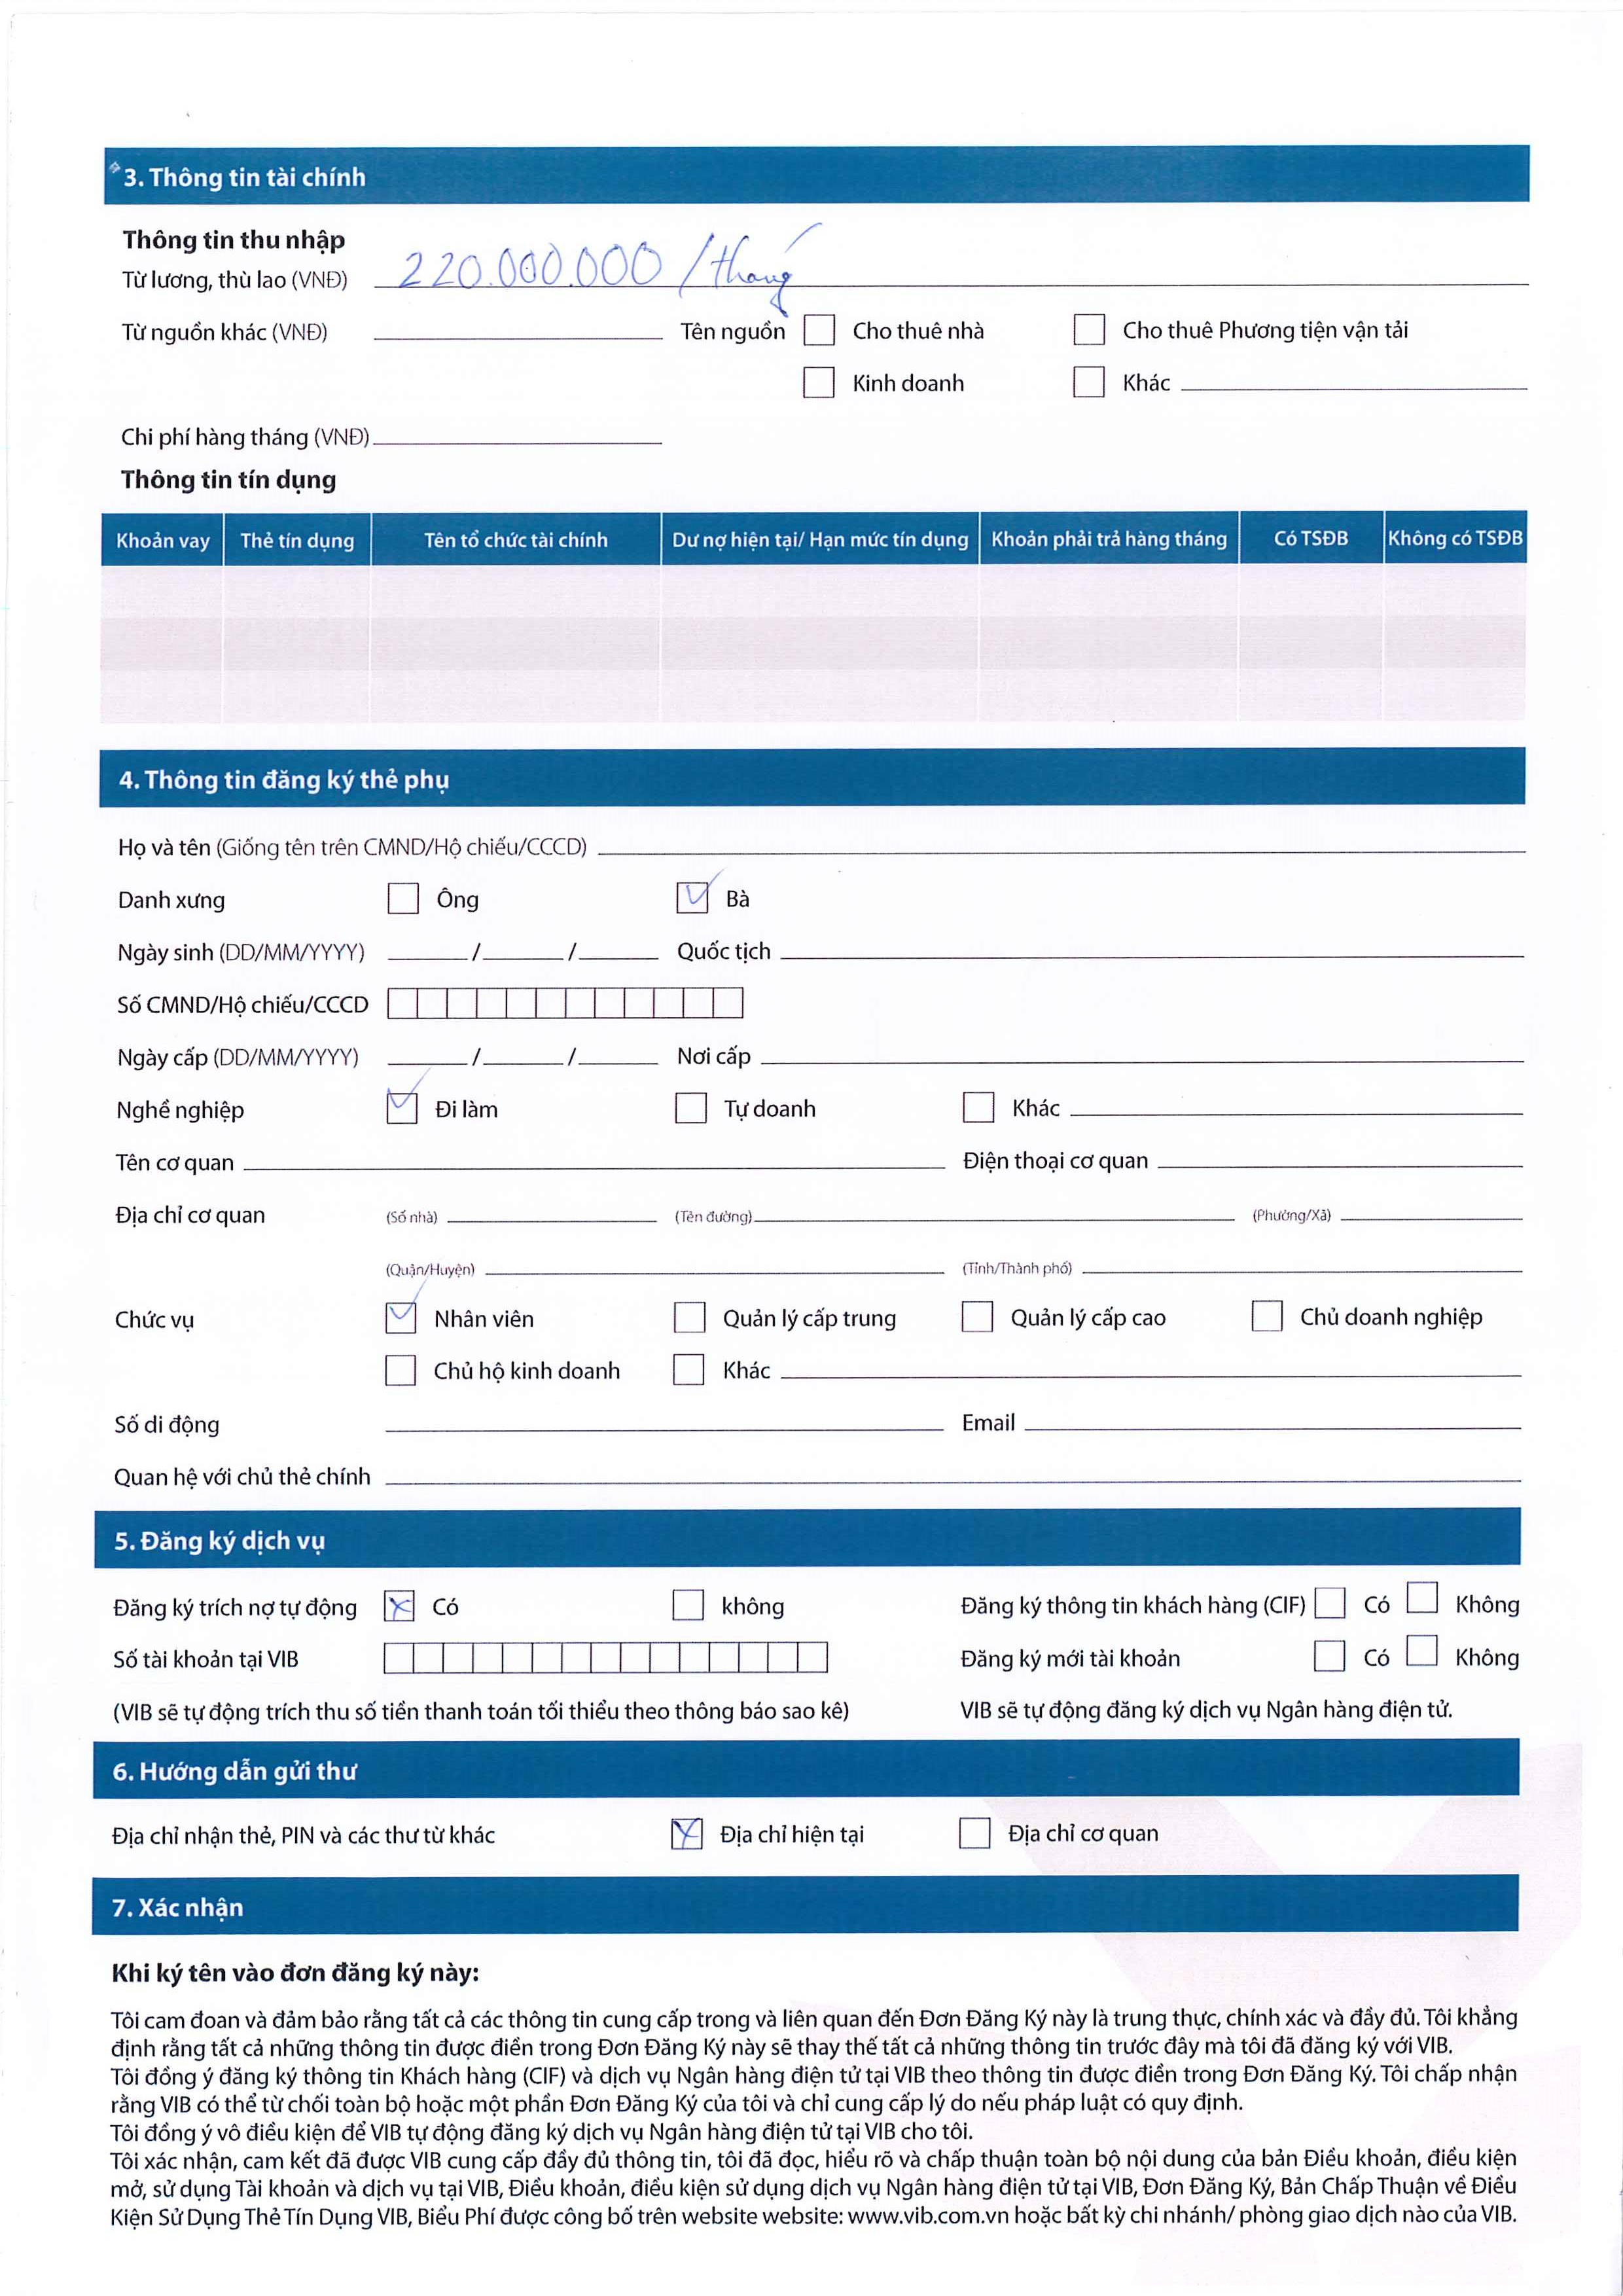box: (666, 1581, 711, 1628), (797, 306, 843, 351), (1402, 1574, 1446, 1621), (1400, 1625, 1444, 1672), (669, 1295, 713, 1340), (1245, 1291, 1289, 1337), (379, 1086, 423, 1130), (956, 1295, 999, 1339), (673, 873, 715, 919), (956, 1086, 1001, 1128), (379, 1295, 422, 1339), (378, 1585, 420, 1628), (1310, 1579, 1353, 1623), (799, 360, 840, 406), (1068, 360, 1110, 402), (667, 1349, 710, 1391), (1309, 1635, 1351, 1678), (666, 1811, 708, 1853), (383, 877, 423, 919), (671, 1086, 711, 1128), (378, 1351, 420, 1391), (956, 1813, 996, 1855), (1070, 309, 1110, 350)
